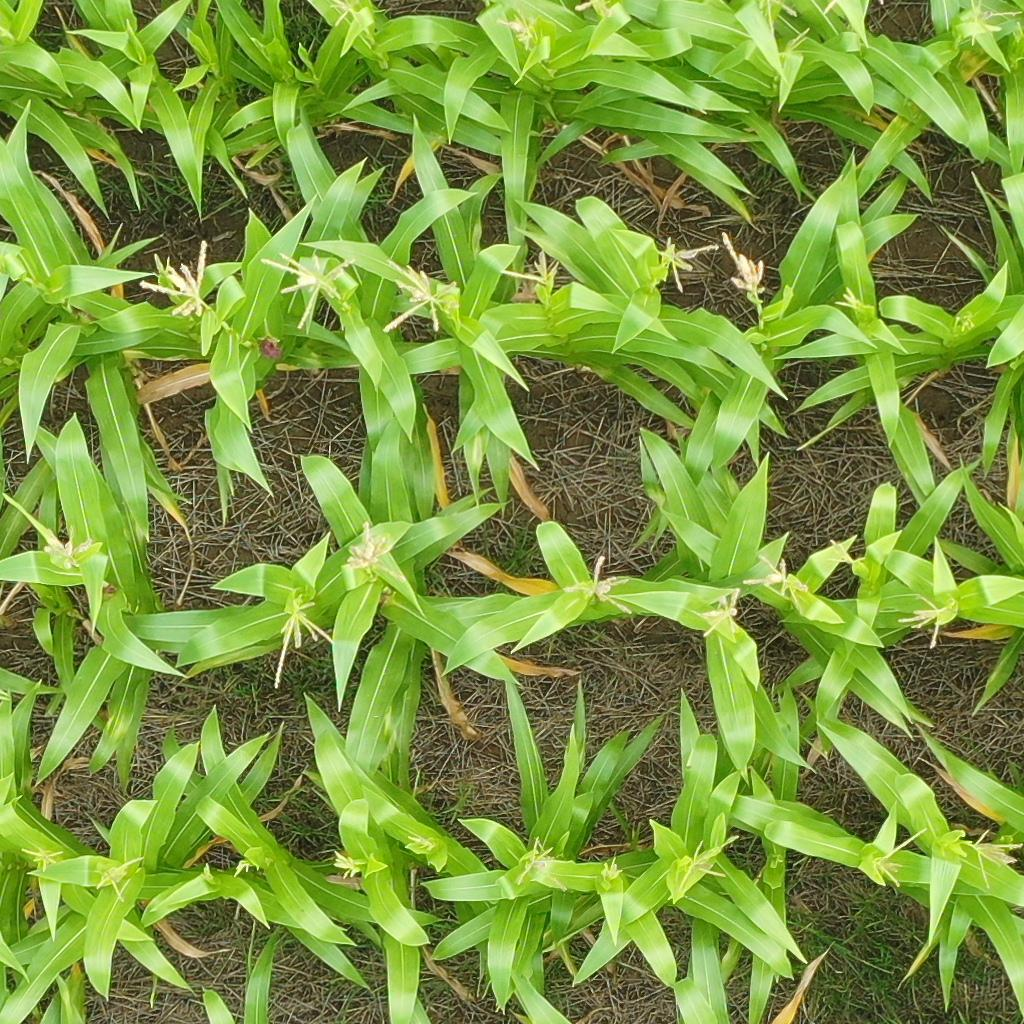Tassel: (257, 248, 358, 331), (380, 257, 465, 339), (137, 238, 216, 322), (271, 590, 334, 687), (868, 823, 932, 894), (562, 554, 632, 616), (676, 833, 741, 898), (655, 234, 719, 295), (719, 229, 771, 304), (341, 523, 401, 585), (966, 825, 1024, 887), (513, 833, 575, 891), (896, 594, 957, 649), (744, 553, 810, 601), (91, 855, 148, 903), (954, 1, 1024, 39), (699, 584, 745, 641), (499, 245, 562, 285), (43, 522, 94, 569), (495, 6, 542, 46), (16, 840, 65, 870), (332, 1, 379, 32), (758, 1, 795, 31), (830, 285, 867, 315), (331, 850, 365, 881), (824, 537, 857, 567), (596, 853, 624, 886), (785, 27, 811, 58), (231, 852, 260, 878), (572, 1, 615, 17), (953, 307, 976, 334), (406, 835, 437, 853), (202, 863, 217, 883)
